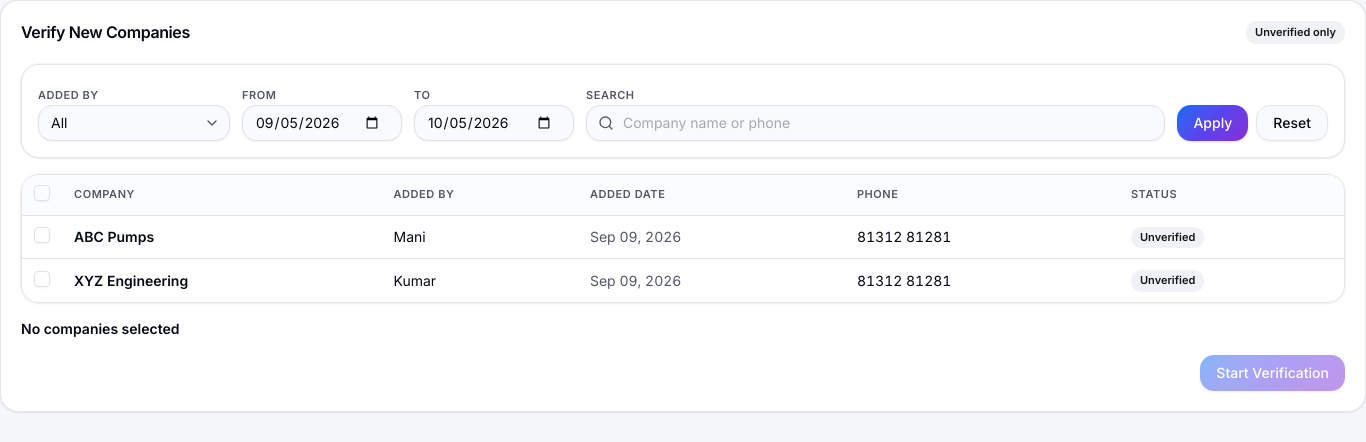
Test: VerifyNewCompaniesPanel › selects and clears every selectable row on the page at once
Expected: the text "ABC Pumps" is shown, [62,216,382,259]
What coordinates should you click on to do the following:
click the checkbox named "Select all companies on this page"
I would click on:
 (42, 192)
Its box is [34,184,50,200].
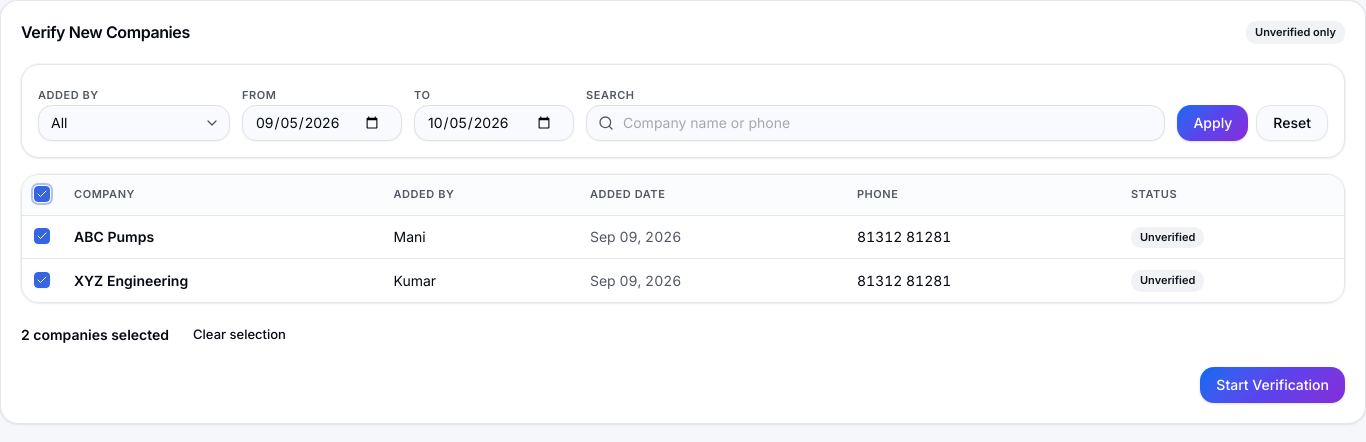
Expected: the text "2 companies selected" is shown, [21,325,169,345]
What coordinates should you click on to do the following:
click the checkbox named "Select all companies on this page"
I would click on:
 (42, 194)
Its box is [34,186,50,202].
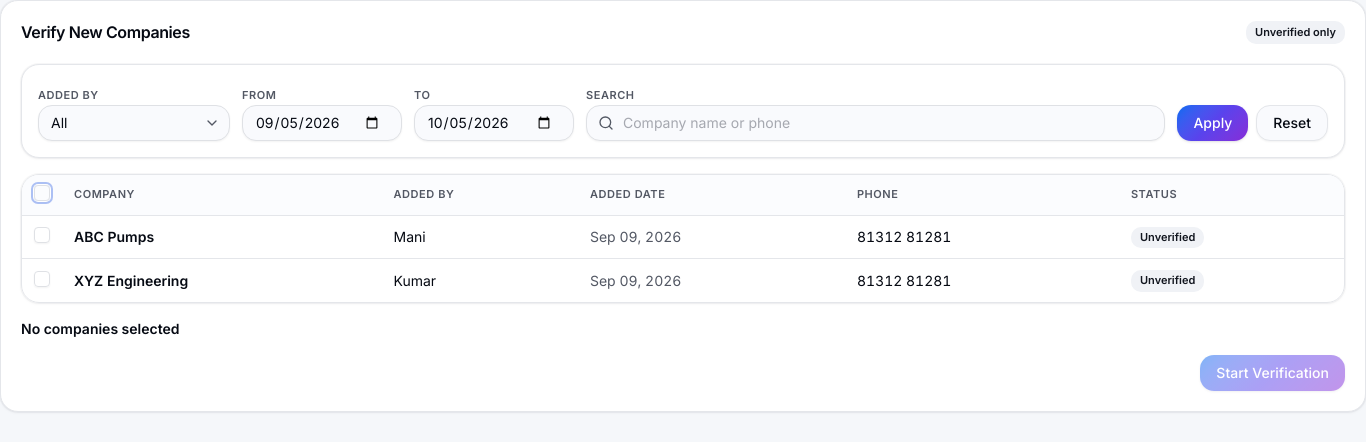
Expected: the text "No companies selected" is shown, [21,319,180,339]
